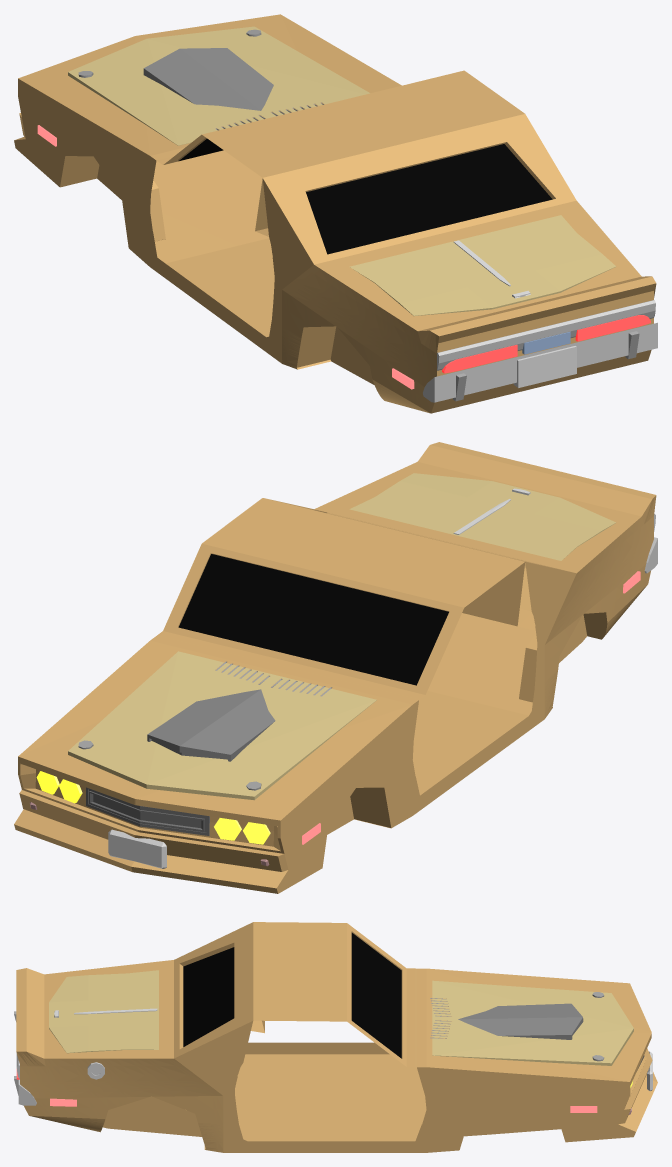
File: Car_Base_wip.fbx
The picture shows the model from 3 angles, top to bottom: view 1: azimuth 30°, elevation 25°; view 2: azimuth 150°, elevation 25°; view 3: azimuth 270°, elevation 25°; orthographic projection. The views are drawn at different scales.
Visible parts, largest first — view 1: Cube_1_3, Cube_7_4, Cube_1, Cube_2_4, Cube_3_3, Cube_5_3, Cube_5_4, Cube_6_3, Cube_4_3; view 2: Cube_1_3, Cube_1, Cube_7_4, Cube_2_4, Cube_3_5, plate, Cylinder_1_4, Cylinder_9; view 3: Cube_1_3, Cube_1, Cube_7_4, Cube_2_4.
Part boxes in pixels (box(x1,y1,x2,y2)): Cube_1_3: box(14, 14, 656, 413); Cube_7_4: box(349, 215, 616, 316); Cube_1: box(68, 26, 369, 145); Cube_2_4: box(143, 48, 274, 118); Cube_3_3: box(423, 322, 657, 402); Cube_5_3: box(437, 300, 655, 370); Cube_5_4: box(442, 315, 650, 373); Cube_6_3: box(513, 346, 576, 387); Cube_4_3: box(522, 331, 570, 354); Cube_1_3: box(14, 442, 656, 893); Cube_1: box(68, 651, 376, 800); Cube_7_4: box(349, 473, 616, 560); Cube_2_4: box(147, 681, 277, 761); Cube_3_5: box(86, 787, 209, 835); plate: box(108, 829, 166, 868); Cylinder_1_4: box(59, 779, 241, 840); Cylinder_9: box(36, 771, 270, 844); Cube_1_3: box(16, 922, 657, 1152); Cube_1: box(432, 980, 633, 1065); Cube_7_4: box(49, 970, 158, 1053); Cube_2_4: box(458, 1003, 583, 1039).
Bounding box in the file's own units: 202 × 125 × 552.
